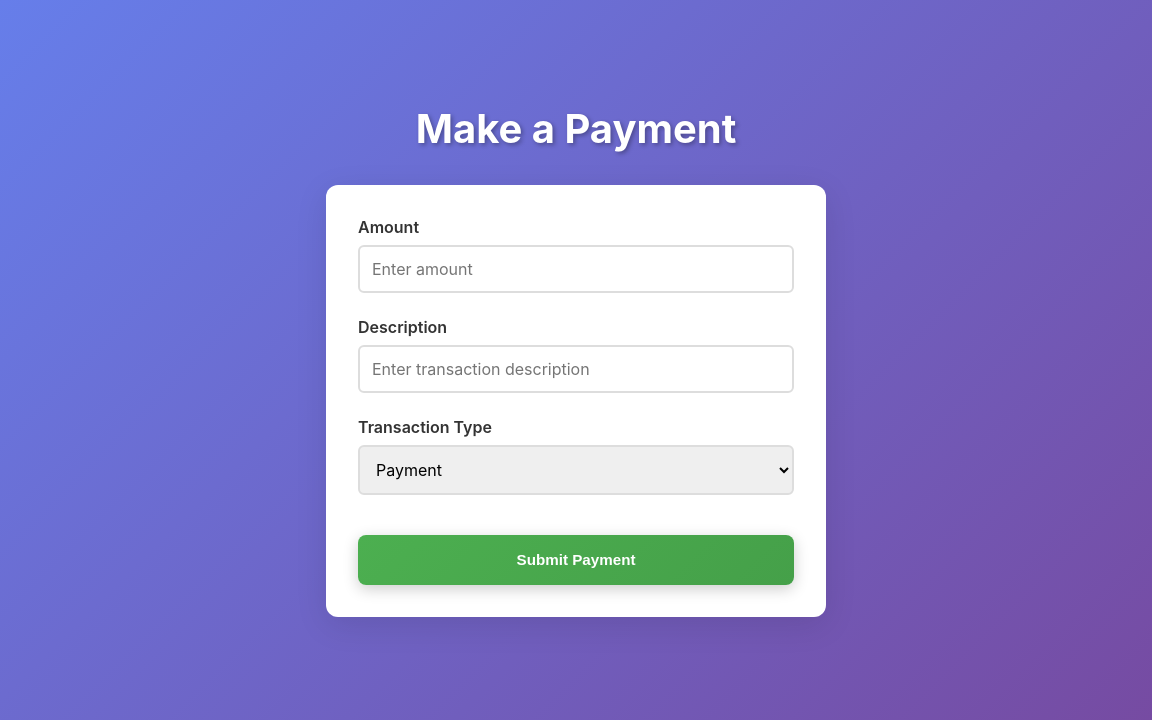
Test case: Pay Component › form fields are disabled during submission
In the number field labelled "Amount": (576, 268) [358, 244, 794, 292], type "100"
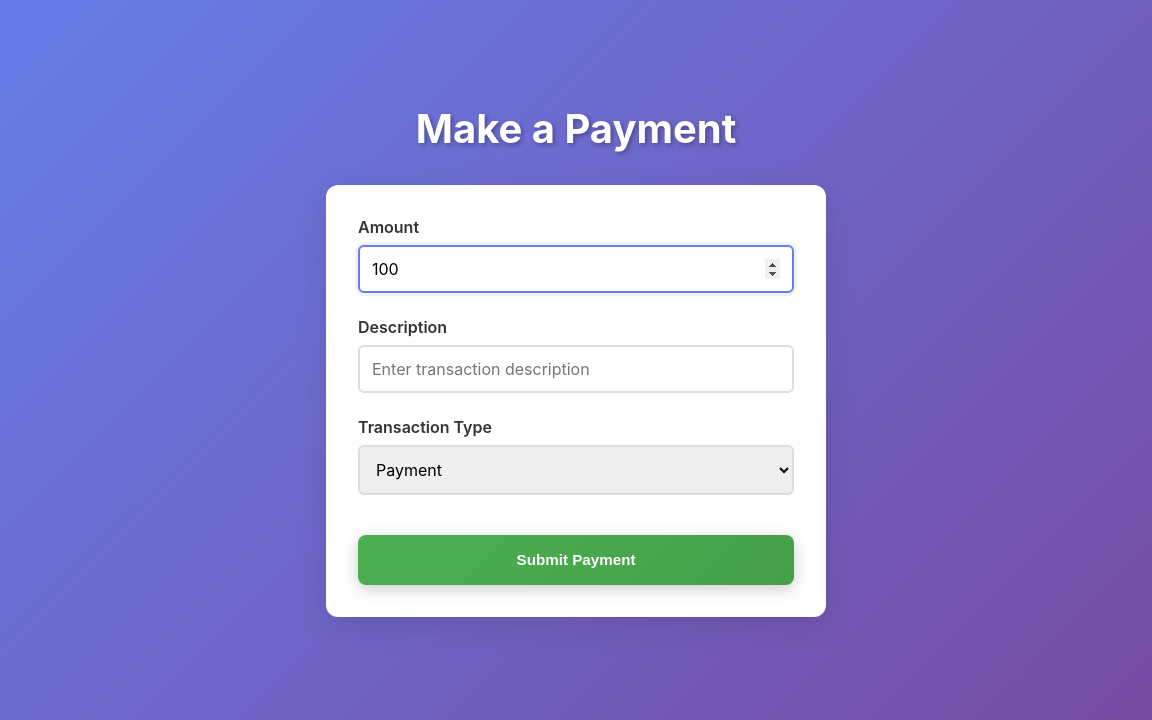
Click the button "Submit Payment": click(576, 560) [358, 534, 794, 584]
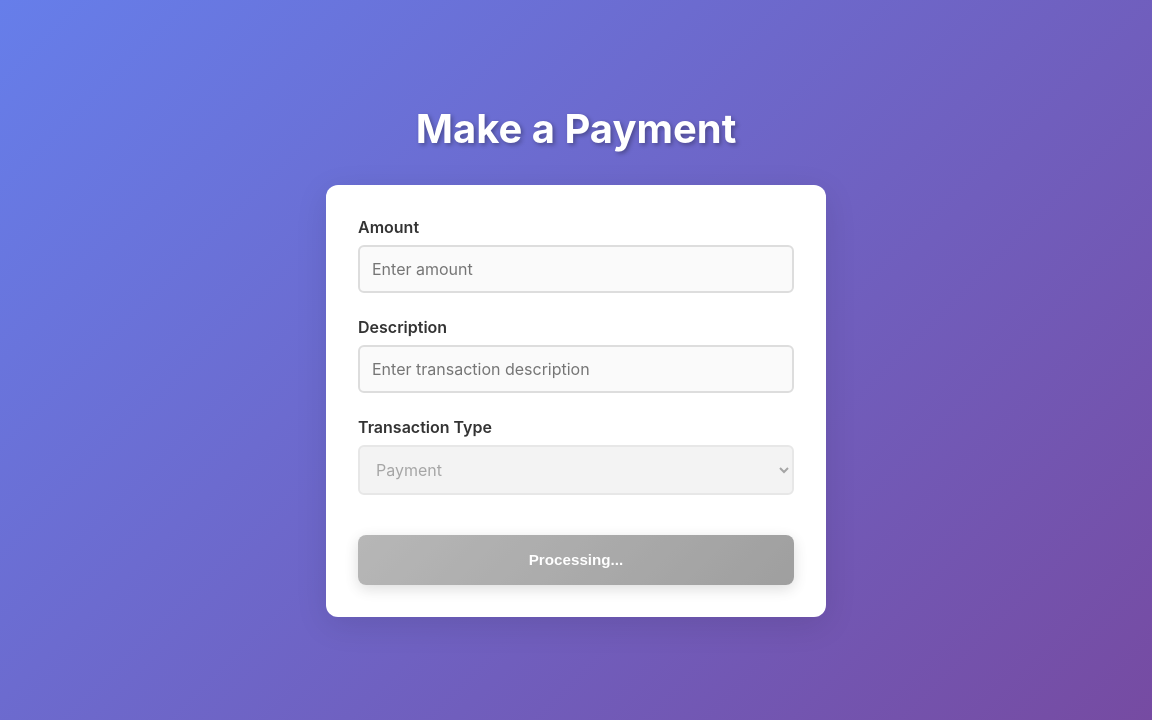
Expected: the number field labelled "Amount" is disabled, [358, 244, 794, 292]
